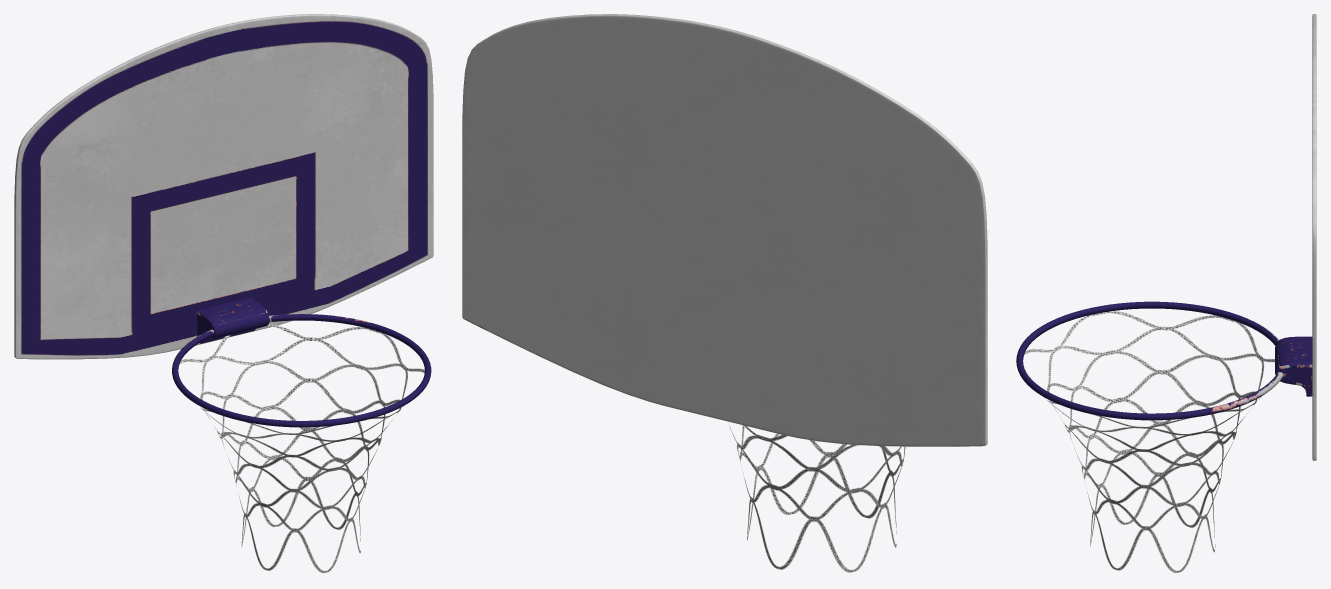
The model's file is ring.glb.
The picture shows the model from 3 angles, left to right: view 1: azimuth 30°, elevation 25°; view 2: azimuth 150°, elevation 25°; view 3: azimuth 270°, elevation 25°; orthographic projection. The views are drawn at different scales.
Visible parts, largest first — view 1: board, net; view 2: board, net; view 3: net, board.
Boxes of the visible parts, box(x1,y1,x2,y2) form: board: box(14, 14, 433, 427); net: box(179, 323, 424, 572); board: box(462, 14, 987, 446); net: box(729, 425, 905, 572); net: box(1023, 311, 1274, 572); board: box(1016, 14, 1316, 460).
Size of the model in its own units: 0.1493 by 0.1594 by 0.0887.
2 materials, 2 textured.
